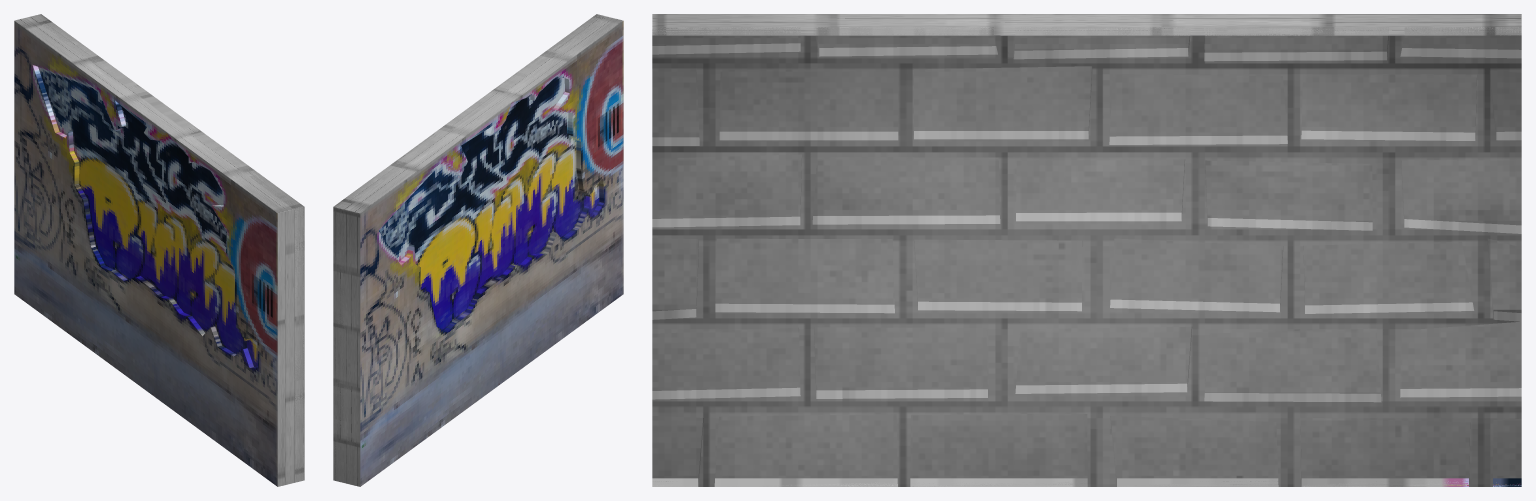
File: Graffiti Wall.fbx
The picture shows the model from 3 angles, left to right: view 1: azimuth 30°, elevation 25°; view 2: azimuth 150°, elevation 25°; view 3: azimuth 270°, elevation 25°; orthographic projection. The views are drawn at different scales.
Parts seen in each view (by area): view 1: Cube; view 2: Cube; view 3: Cube.
Boxes of the visible parts, x1,y1,x2,y2 form: Cube: (14, 14, 304, 486); Cube: (333, 14, 623, 486); Cube: (652, 14, 1521, 486).
Bounding box in the file's own units: 66.14 × 638 × 1115.
1 material, 1 textured.
